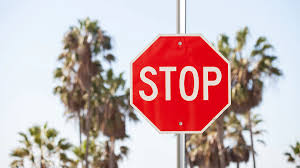stop sign: (130, 35, 230, 132)
